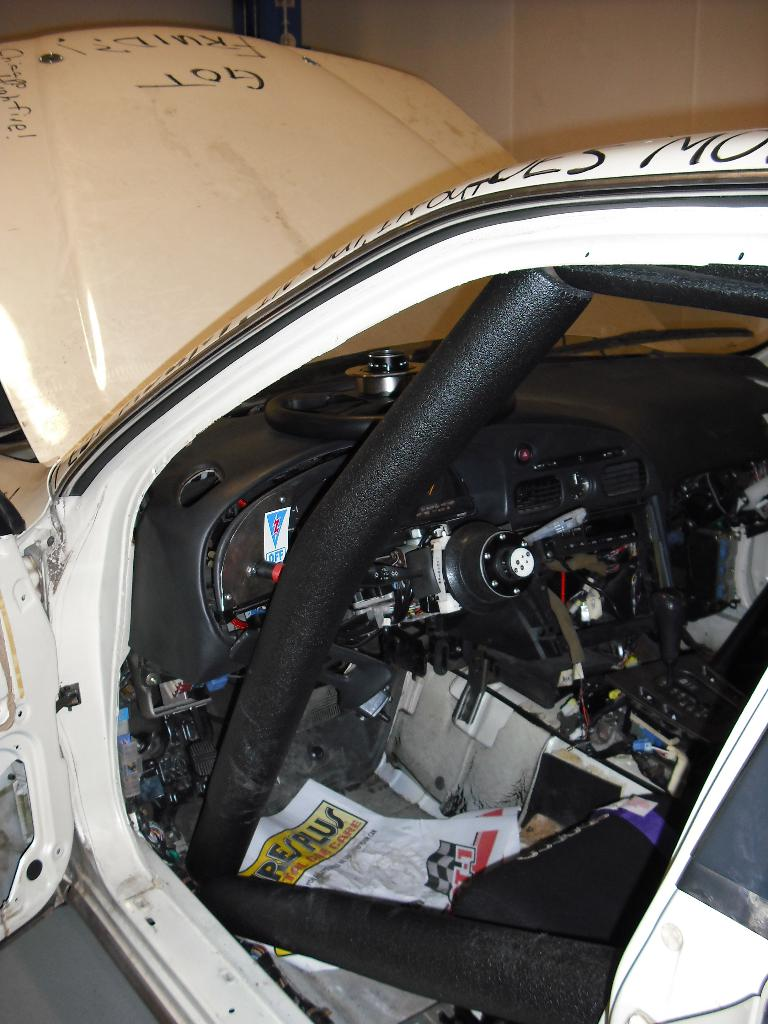Car: (0, 23, 767, 1022)
